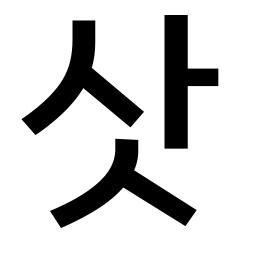Bbichim: (9, 99, 54, 144), (41, 199, 78, 237)
Buri: (155, 6, 197, 34)
Gaji: (156, 59, 199, 94)
